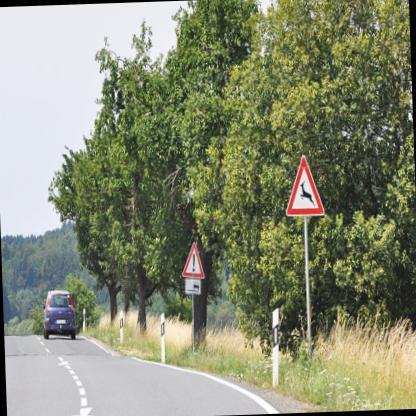road_sign: (285, 155, 324, 218), (182, 242, 205, 278), (184, 278, 203, 294)
